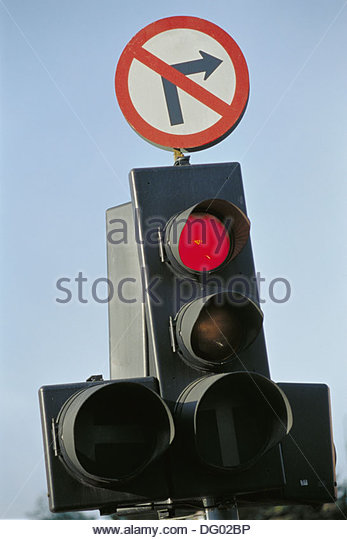No_right_turn: (115, 16, 250, 150)
